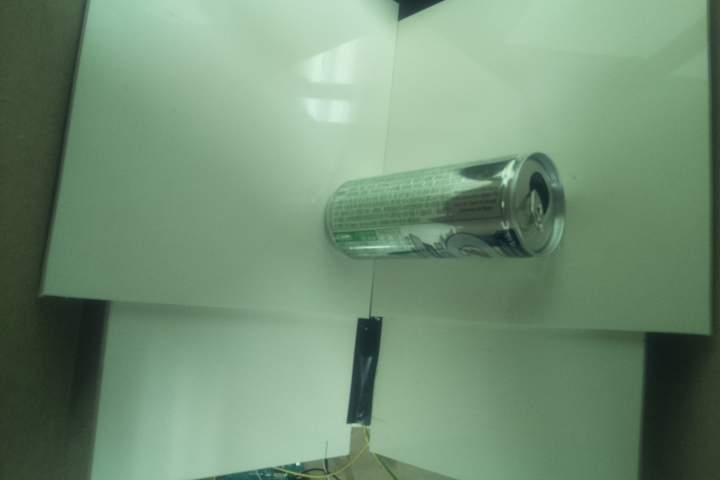can: (321, 148, 568, 263)
